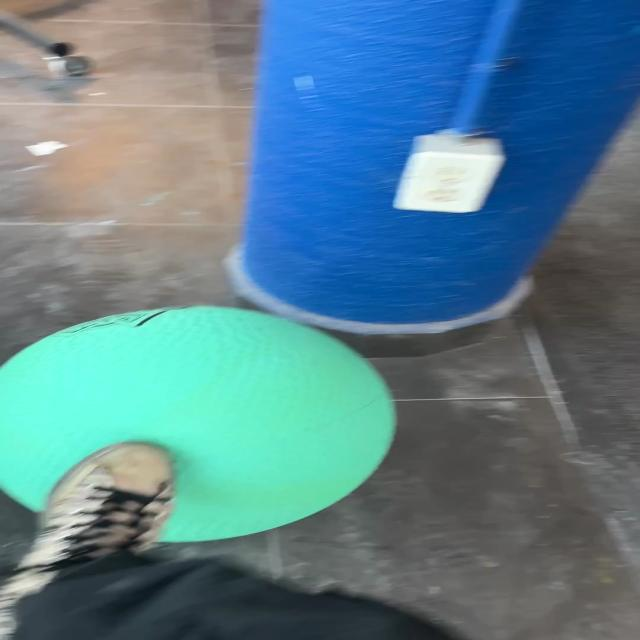Algae: (0, 304, 398, 543)
